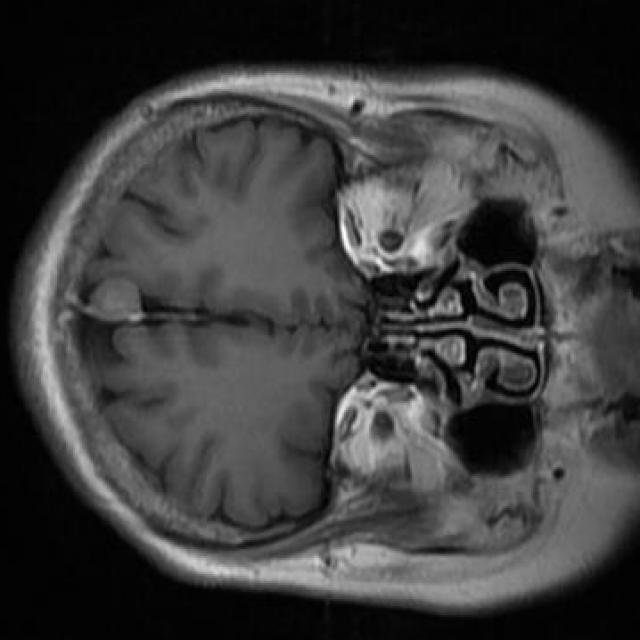meningioma: (87, 278, 143, 323)
